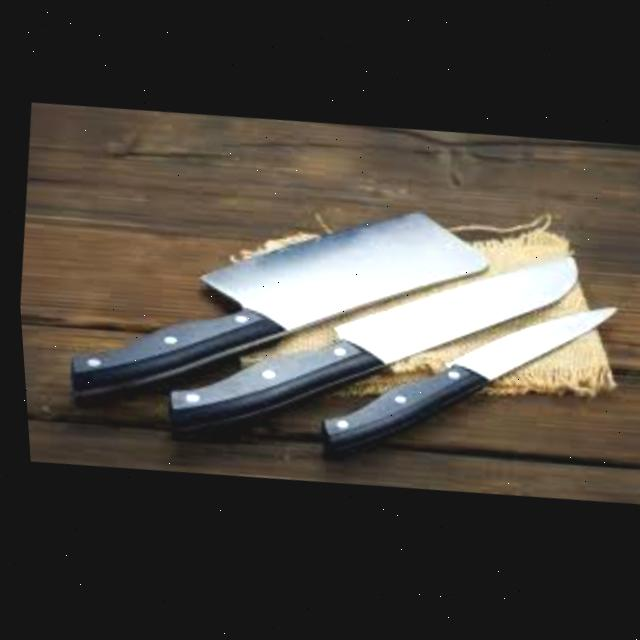Knife: (149, 209, 588, 483), (305, 275, 623, 492)
